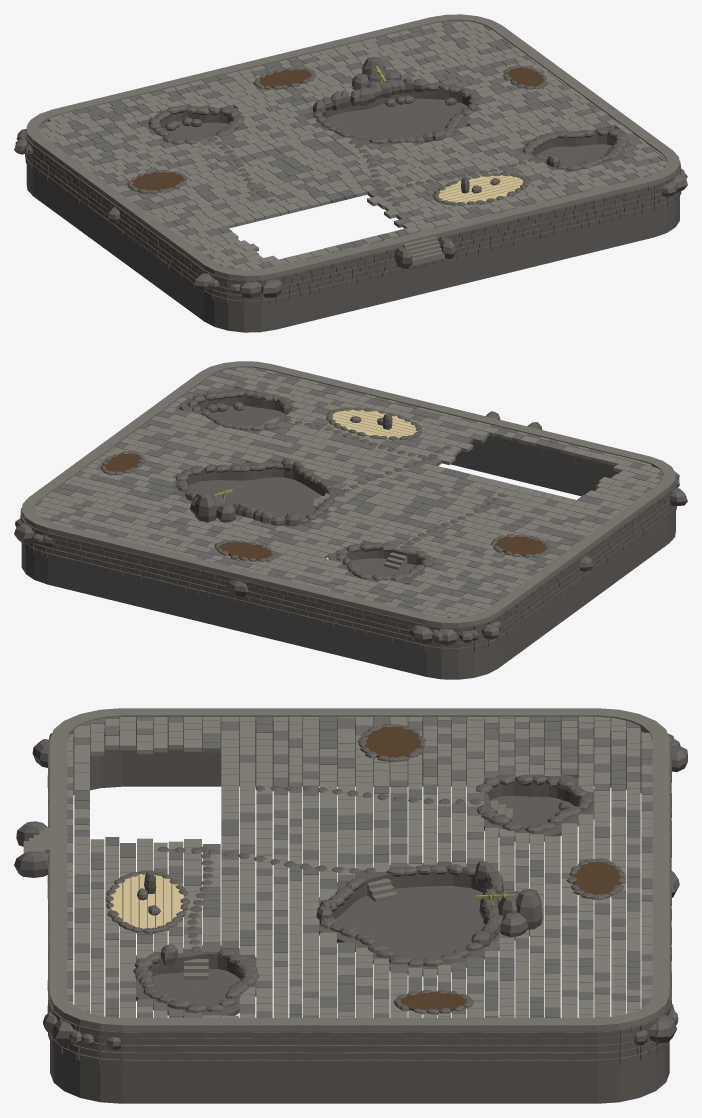
The model's file is SM_Onsen_Terrace.fbx.
3 renders of one model, top to bottom at view 1: azimuth 30°, elevation 25°; view 2: azimuth 150°, elevation 25°; view 3: azimuth 270°, elevation 25°, orthographic. The views are drawn at different scales.
Parts seen in each view (by area): view 1: SM_Onsen_Terrace; view 2: SM_Onsen_Terrace; view 3: SM_Onsen_Terrace.
Part boxes in pixels (x1,y1,x2,y2): SM_Onsen_Terrace: [14, 14, 687, 332]; SM_Onsen_Terrace: [14, 361, 687, 679]; SM_Onsen_Terrace: [14, 708, 687, 1103].
Bounding box in the file's own units: 47.74 × 7.39 × 41.23.
